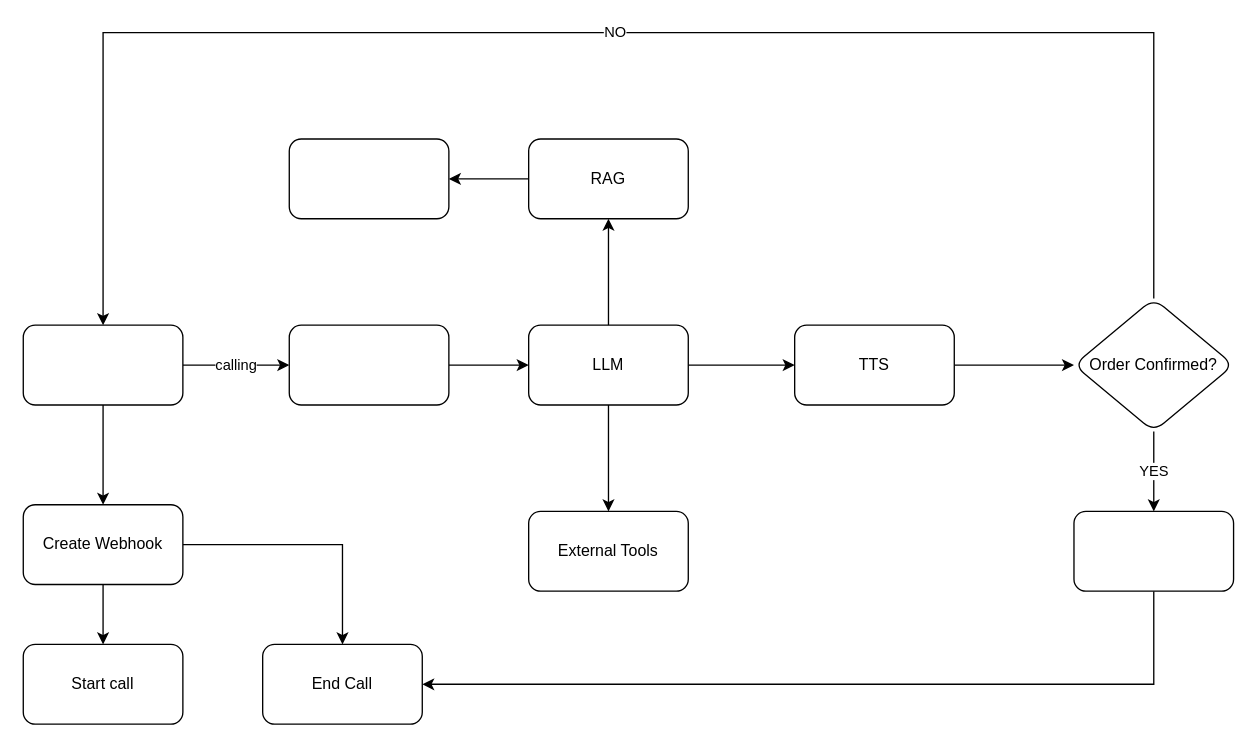
Image size: 1257x747. Some labels were removed from this diagram. Each missing label, with the centre of its shape:
"Send Order to Dashboard" goes at [1153,550].
"STT" goes at [368,364].
"User" goes at [102,364].
"Vector Store" goes at [368,178].
